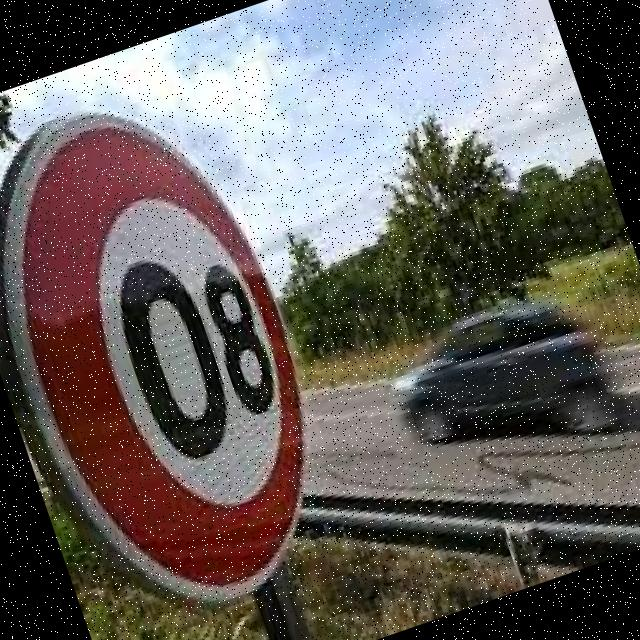speed_limit_80: (0, 61, 374, 640)
